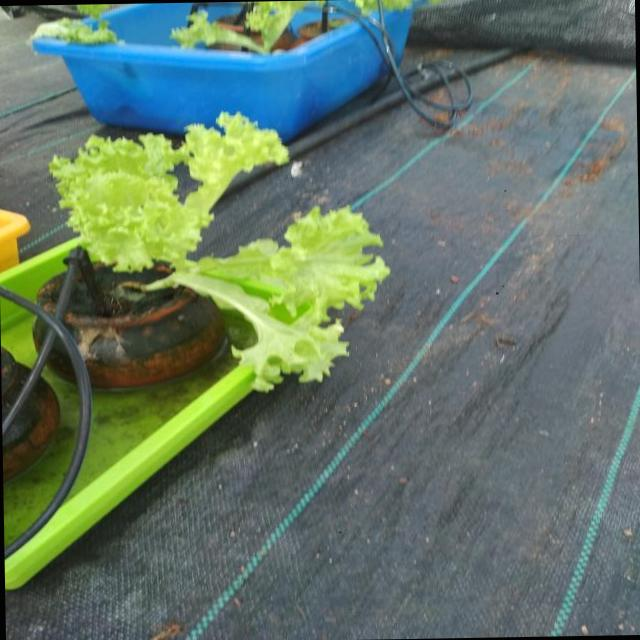Lettuce-Not-Ready-to-Harvest: (50, 113, 388, 389), (171, 0, 306, 51), (30, 17, 116, 44)
